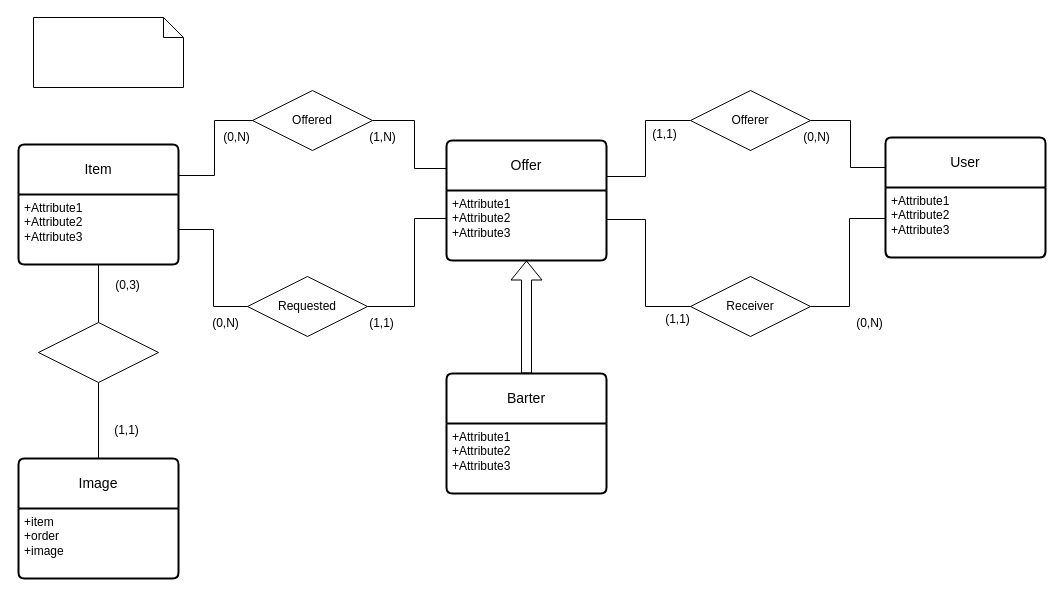
Some shapes in this 1063 by 597 pixel diagram are drawn without their labels. Each missing label, with the centre of its shape:
Images: the point at 98,352
Vincolo: stesso oggetto non può apparire più volte con lo stesso Offer: the point at 108,52
